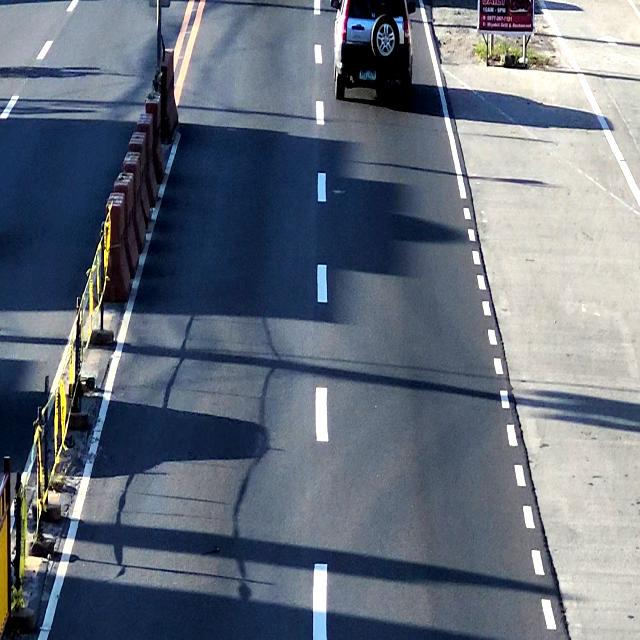Car: (326, 0, 414, 101)
